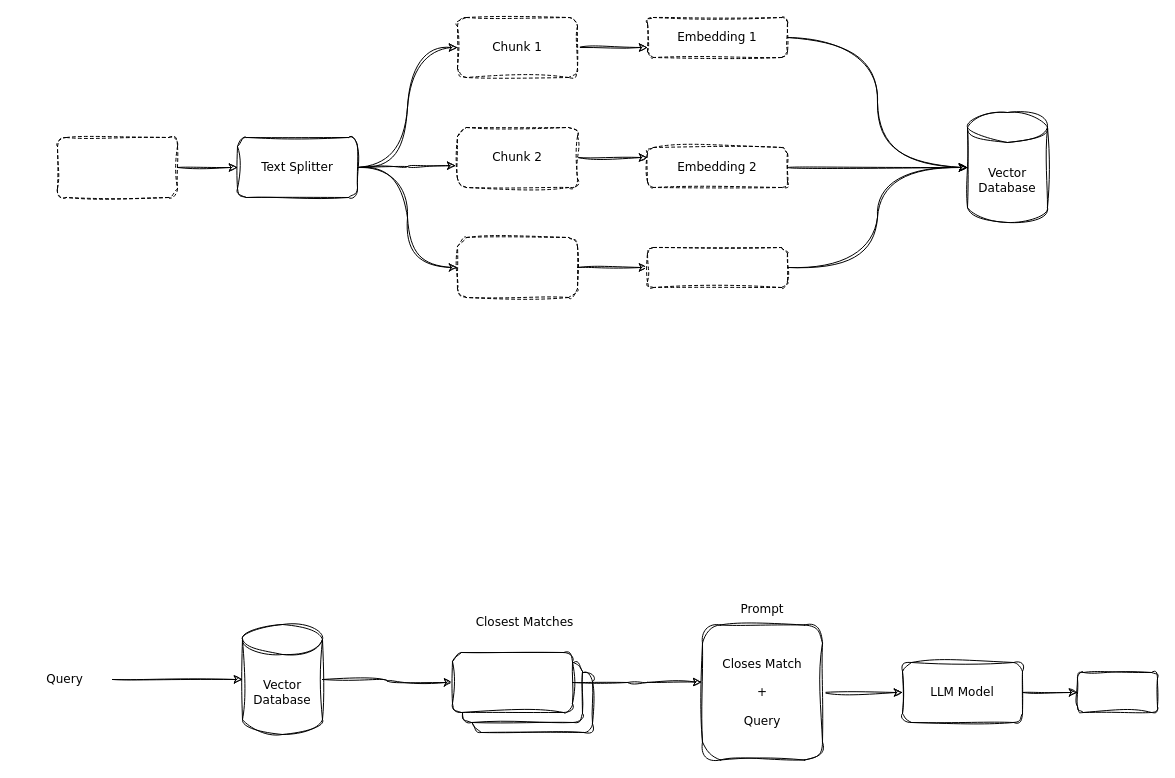
Some shapes in this 1175 by 778 pixel diagram are drawn without their labels. The shapes that lost their labels are listed below. From the top down, each one's box as (x1, y1, x2, y2) in pixels, then its label:
(56, 136, 178, 198): Original Text
(456, 236, 578, 298): Chunk 3
(646, 246, 788, 288): Embedding 3
(452, 652, 572, 712): Response
(1076, 672, 1158, 712): Result
